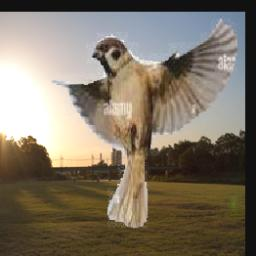Sparrow: (50, 20, 236, 230)
